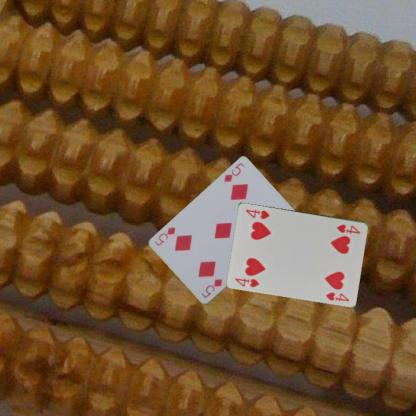4h: (334, 221, 362, 235), (233, 275, 260, 288)
5d: (198, 276, 223, 300), (221, 160, 246, 184)
